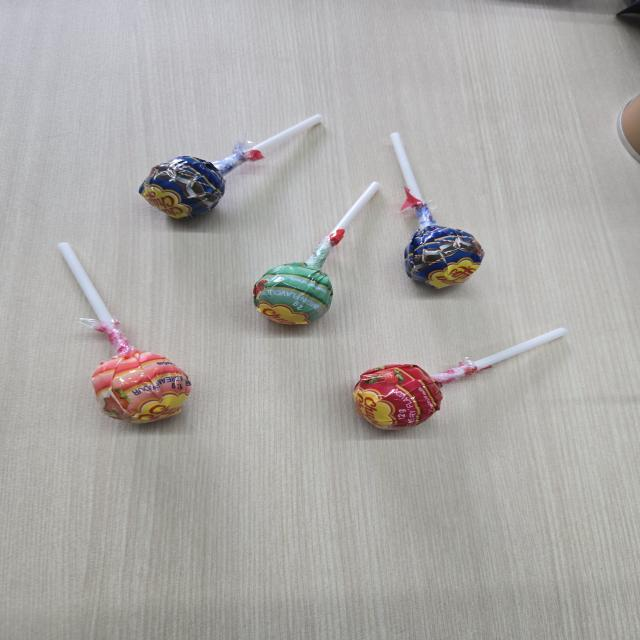lollipop: (54, 236, 196, 430), (350, 324, 567, 438), (251, 177, 384, 335), (139, 112, 324, 222), (387, 128, 489, 294)
